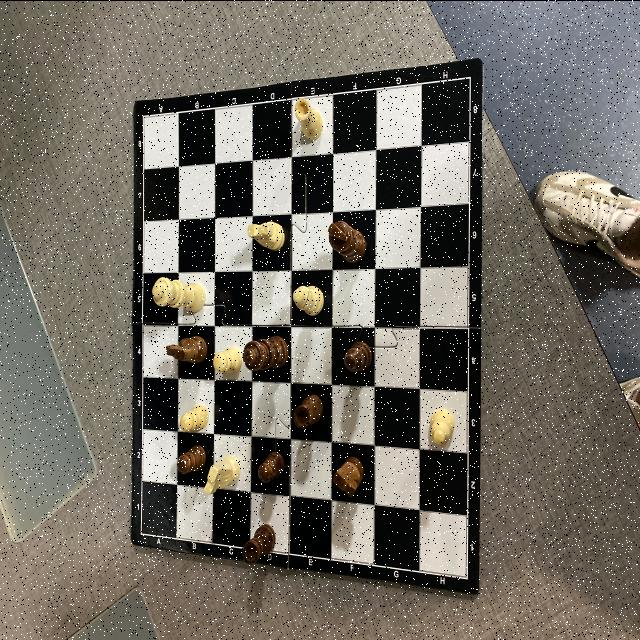Black-Bishop: (342, 338, 372, 373)
Black-King: (326, 217, 368, 263)
Black-Knight: (334, 454, 366, 498), (166, 333, 208, 365)
Black-Pawn: (175, 443, 208, 475), (256, 450, 286, 484)
Black-Queen: (242, 332, 289, 369)
Black-Rook: (242, 522, 277, 562), (294, 391, 326, 430)
White-Bishop: (293, 281, 325, 316)
White-Knight: (202, 452, 242, 496), (247, 219, 286, 250)
White-Pawn: (428, 406, 456, 444), (179, 402, 210, 434), (213, 344, 243, 376)
White-Queen: (151, 274, 205, 312)
White-Rook: (294, 96, 324, 140)
